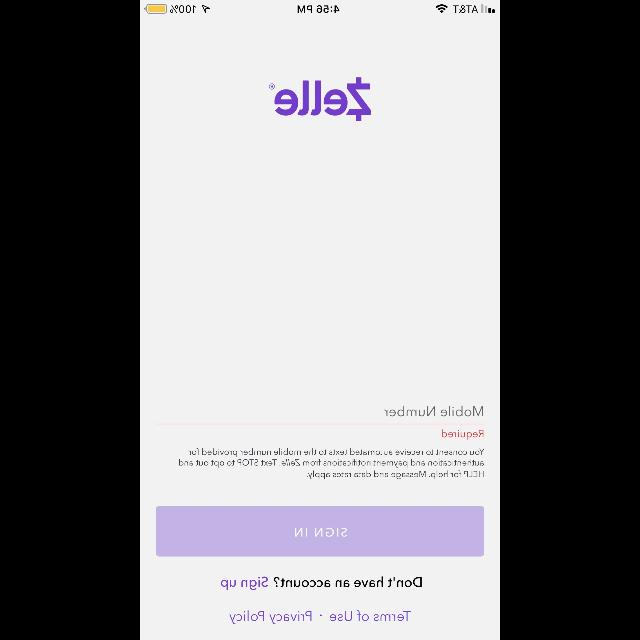image: (269, 77, 371, 121)
input: (156, 406, 484, 424)
text: (178, 448, 484, 479), (220, 576, 422, 590), (229, 610, 411, 624), (383, 406, 483, 416), (441, 430, 483, 440)
textbutton: (156, 506, 484, 556)
uppertaskbar: (140, 0, 500, 14)
